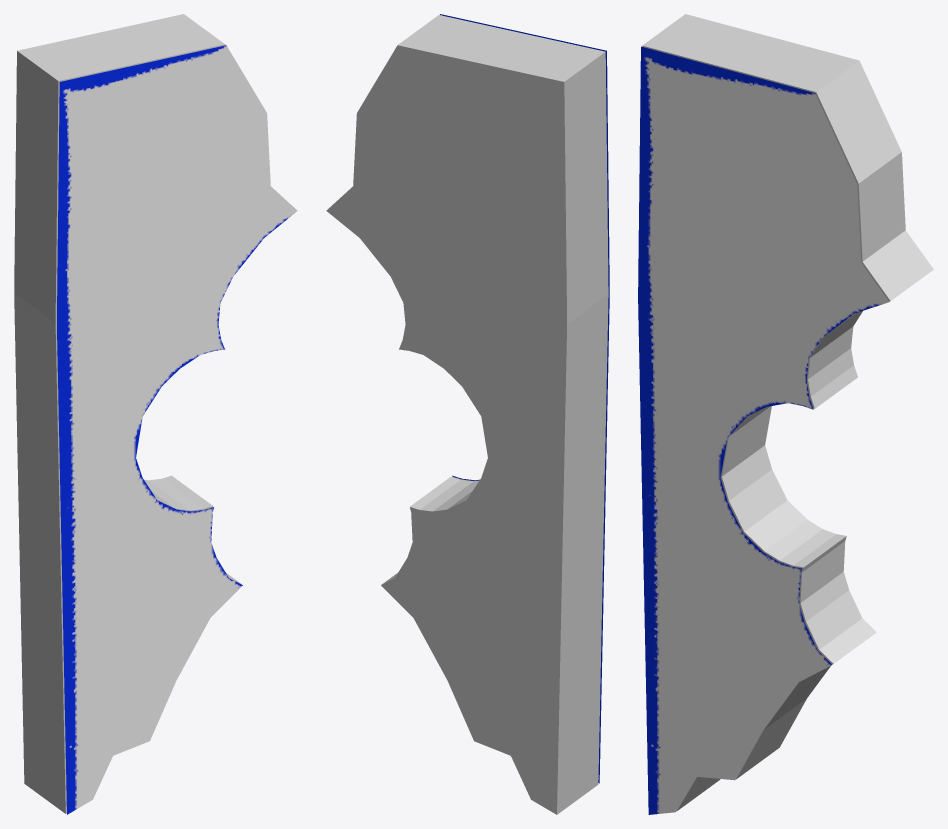
The picture shows the model from 3 angles, left to right: view 1: azimuth 30°, elevation 25°; view 2: azimuth 150°, elevation 25°; view 3: azimuth 330°, elevation 25°; orthographic projection. The views are drawn at different scales.
Parts seen in each view (by area): view 1: Out_1_1, Out_1_0; view 2: Out_1_0, Out_1_1; view 3: Out_1_1, Out_1_0.
Boxes of the visible parts, bbox=[...] form: Out_1_1: bbox=[57, 45, 297, 814]; Out_1_0: bbox=[14, 14, 241, 813]; Out_1_0: bbox=[326, 15, 608, 814]; Out_1_1: bbox=[440, 14, 609, 783]; Out_1_1: bbox=[638, 46, 888, 814]; Out_1_0: bbox=[642, 14, 933, 811].
Size of the model in its own units: 1.68 by 4.89 by 0.515.
Materials: 2 (1 with a texture image).
